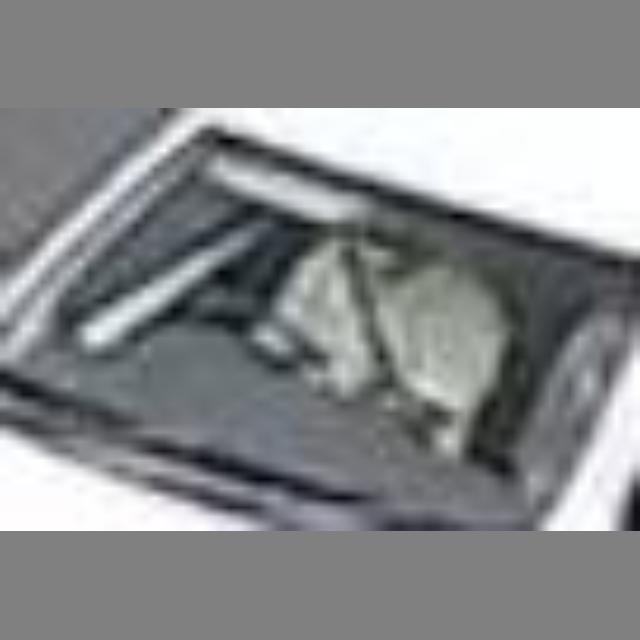pakai: (226, 193, 480, 419)
